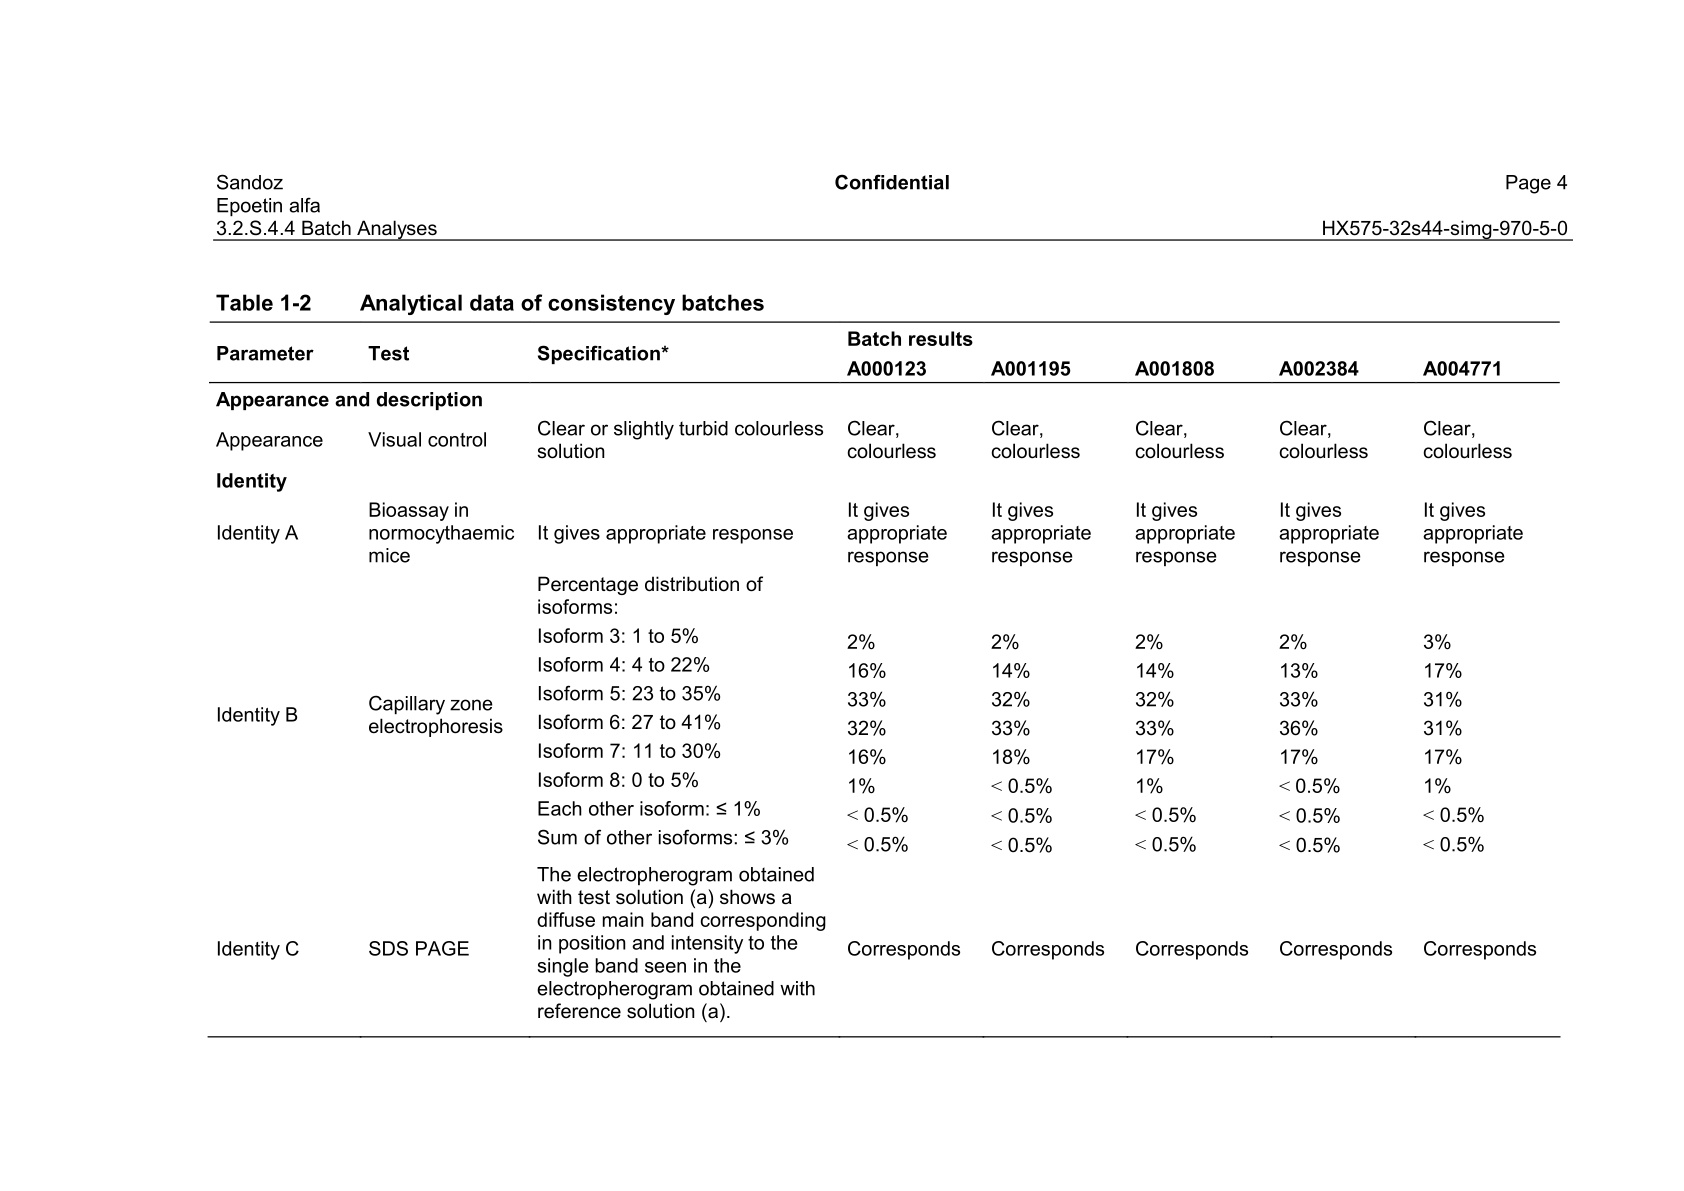partial_lined_merged_cells: (213, 318, 1565, 1041)
